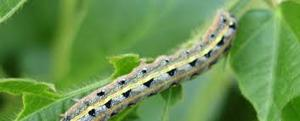fallarmy_worm: (55, 8, 244, 121)
